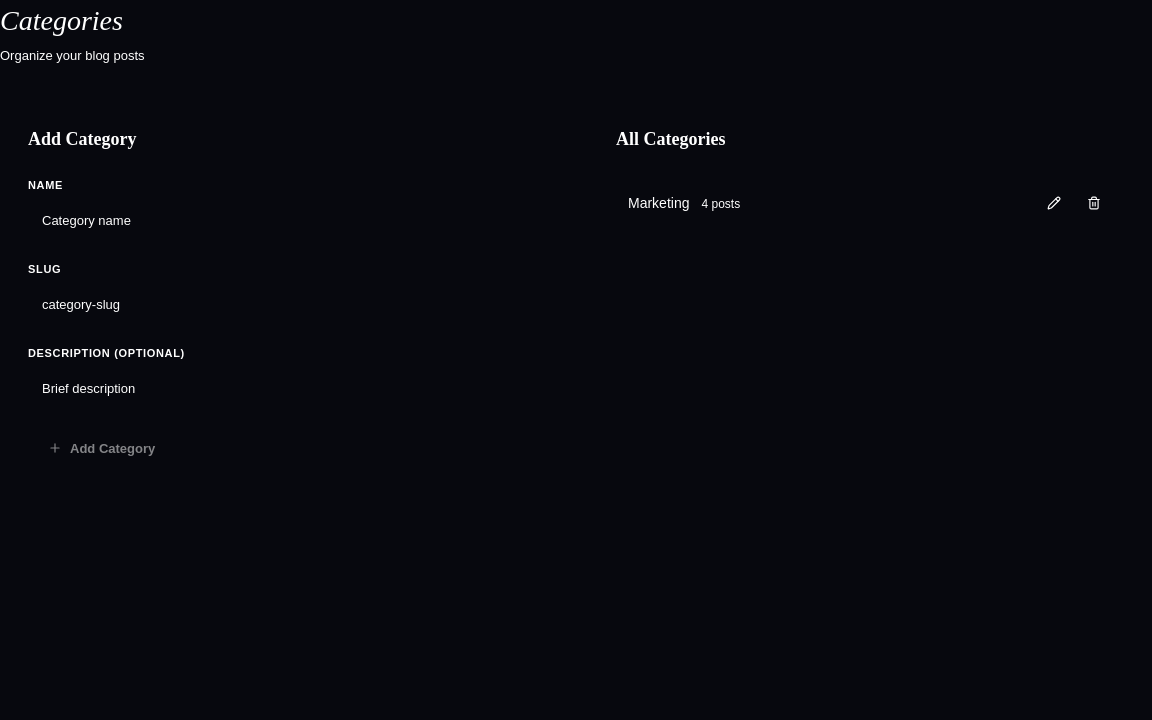
CategoriesManager › warns that posts become uncategorized before deleting
This screenshot has width=1152, height=720.
Later steps or results of the test are not shown.
What coordinates should you click on to do the following:
click the button named "Delete Marketing"
I would click on:
 (1094, 202)
Its box is [1076,196,1112,210].
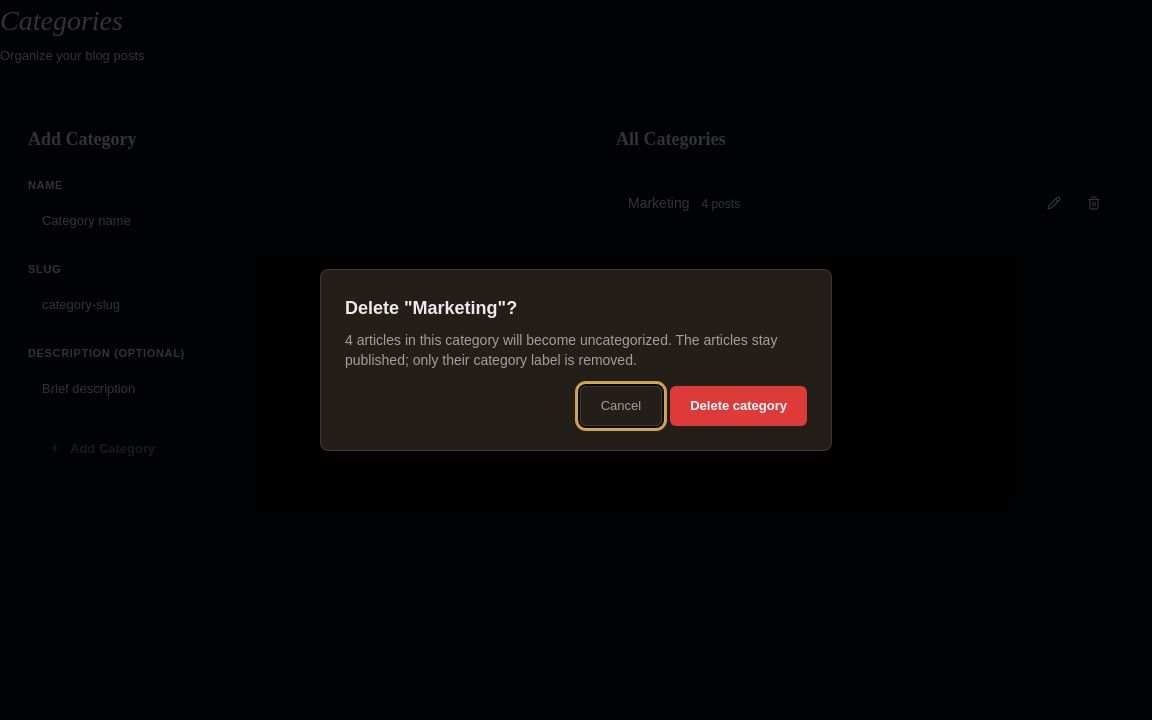
Now the text "uncategorized" is shown, box [345,332,777,368]
